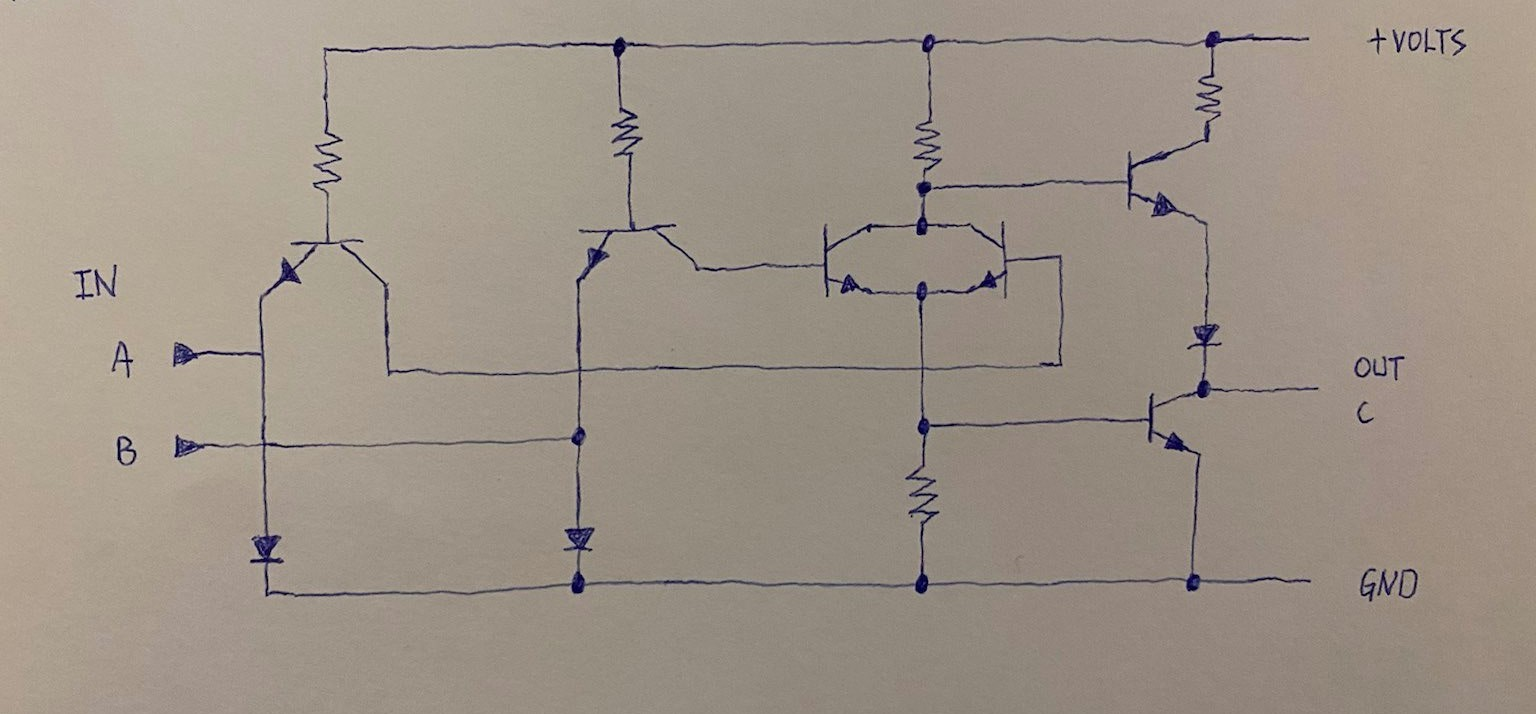diode: (247, 532, 288, 567), (1185, 322, 1226, 352), (561, 525, 597, 555)
junction: (1172, 560, 1215, 604), (557, 354, 604, 394), (1192, 19, 1232, 60), (561, 418, 601, 458), (908, 23, 950, 61), (905, 564, 945, 602), (599, 29, 640, 65), (906, 409, 945, 445), (562, 565, 596, 605), (245, 428, 286, 459), (1189, 371, 1222, 407), (903, 352, 941, 382), (237, 340, 279, 367), (1046, 344, 1077, 379), (1039, 244, 1074, 274), (313, 34, 344, 67), (906, 278, 937, 308), (908, 174, 940, 201), (371, 356, 403, 383), (908, 211, 938, 239), (256, 584, 285, 607)
resistor: (309, 123, 350, 198), (903, 460, 946, 529), (903, 112, 948, 175), (609, 101, 647, 165), (1192, 69, 1229, 128)
terminal: (162, 334, 222, 372), (164, 429, 218, 465), (1274, 565, 1334, 594), (1277, 371, 1340, 398), (1276, 27, 1329, 54)
text: (1355, 560, 1427, 608), (1391, 18, 1471, 61), (67, 254, 124, 309), (1349, 349, 1408, 386), (111, 429, 147, 477), (104, 339, 137, 381), (1350, 398, 1381, 428), (1363, 23, 1387, 55)
transistor: (256, 231, 395, 306), (566, 217, 703, 289), (814, 214, 893, 304), (1118, 139, 1195, 226), (955, 215, 1016, 306), (1130, 386, 1194, 461)
